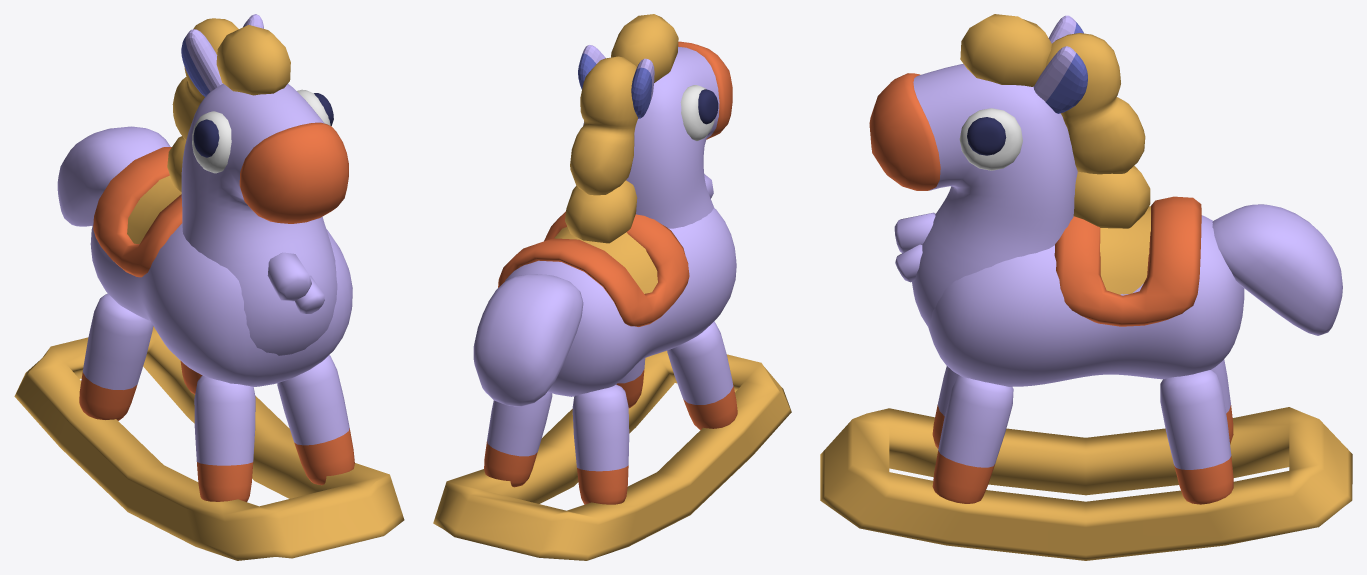
3 views of the same model, side by side, from view 1: azimuth 30°, elevation 25°; view 2: azimuth 150°, elevation 25°; view 3: azimuth 270°, elevation 25° (orthographic). The views are drawn at different scales.
Visible parts, largest first — view 1: Plane.006, Cube.037, Cube.031, Cube.026, Cube.033, Cube.032, Plane.002, Cube.034, Plane.001, Cube.035, Cube.048, Cube.030 (+4 smaller); view 2: Plane.006, Cube.031, Cube.026, Plane.002, Cube.037, Cube.032, Cube.035, Cube.036, Cube.034, Cube.030, Plane.001, Cube.033 (+2 smaller); view 3: Plane.006, Cube.026, Cube.037, Cube.031, Cube.032, Plane.002, Cube.035, Cube.033, Cube.034, Cube.036, Cube.030, Plane.001 (+4 smaller).
Part boxes in pixels (box(x1,y1,x2,y2)): Plane.006: box(14, 326, 404, 560); Cube.037: box(181, 83, 337, 355); Cube.031: box(79, 293, 354, 501); Cube.026: box(90, 222, 352, 386); Cube.033: box(239, 122, 348, 223); Cube.032: box(93, 147, 182, 277); Plane.002: box(57, 126, 170, 226); Cube.034: box(216, 25, 290, 95); Plane.001: box(181, 14, 263, 96); Cube.035: box(172, 18, 238, 139); Cube.048: box(192, 89, 330, 173); Cube.030: box(127, 175, 181, 243); Plane.006: box(433, 350, 791, 560); Cube.031: box(484, 321, 737, 504); Cube.026: box(505, 207, 736, 396); Plane.002: box(473, 274, 583, 406); Cube.037: box(583, 46, 719, 228); Cube.032: box(498, 211, 689, 326); Cube.035: box(570, 56, 637, 195); Cube.036: box(565, 180, 637, 243); Cube.034: box(611, 14, 678, 82); Cube.030: box(554, 227, 657, 293); Plane.001: box(578, 45, 654, 118); Cube.033: box(678, 41, 732, 139); Plane.006: box(820, 407, 1352, 560); Cube.026: box(928, 215, 1244, 386); Cube.037: box(912, 64, 1077, 327); Cube.031: box(932, 359, 1233, 504); Cube.032: box(1054, 196, 1201, 326); Plane.002: box(1212, 204, 1342, 335); Cube.035: box(1046, 33, 1145, 174); Cube.033: box(869, 73, 940, 190); Cube.034: box(960, 14, 1051, 86); Cube.036: box(1073, 165, 1150, 228); Cube.030: box(1100, 206, 1150, 294); Plane.001: box(1033, 15, 1087, 113).
Size of the model in its own units: 160 by 424 by 405.
